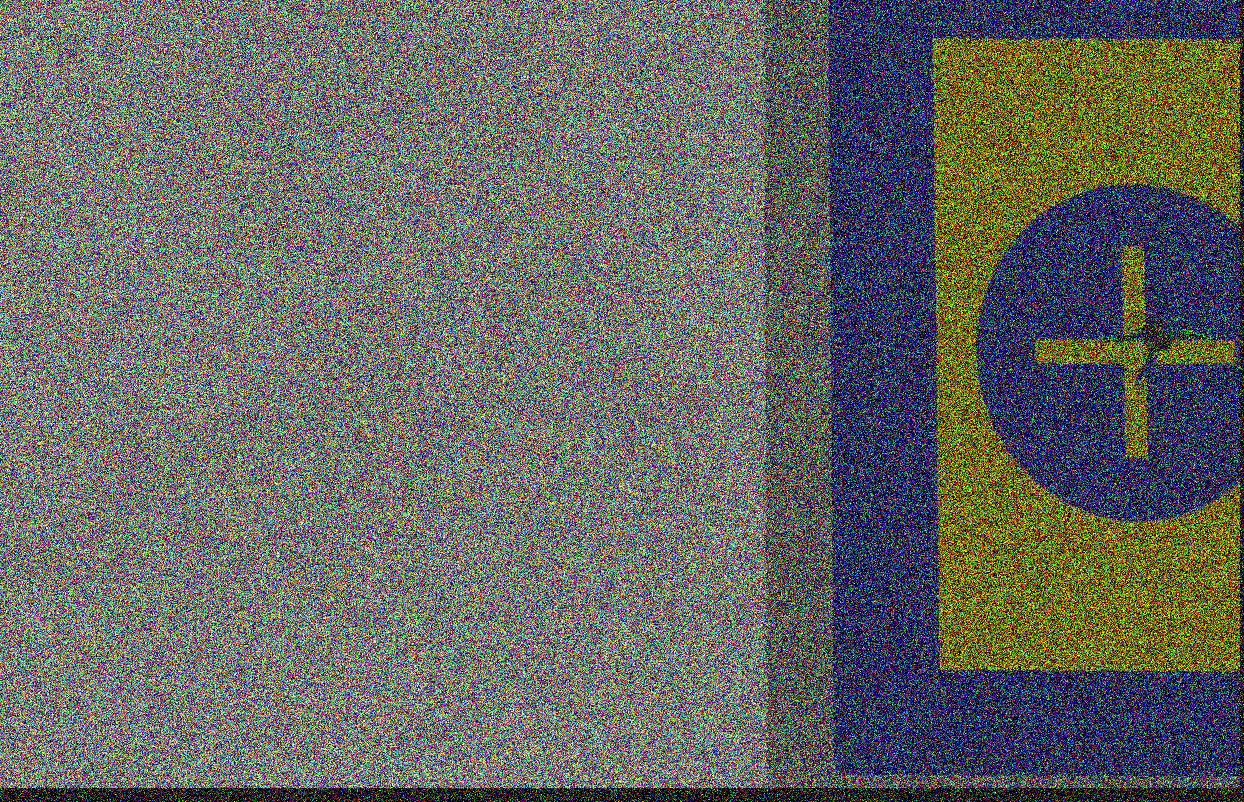large_base: (824, 1, 1244, 773)
